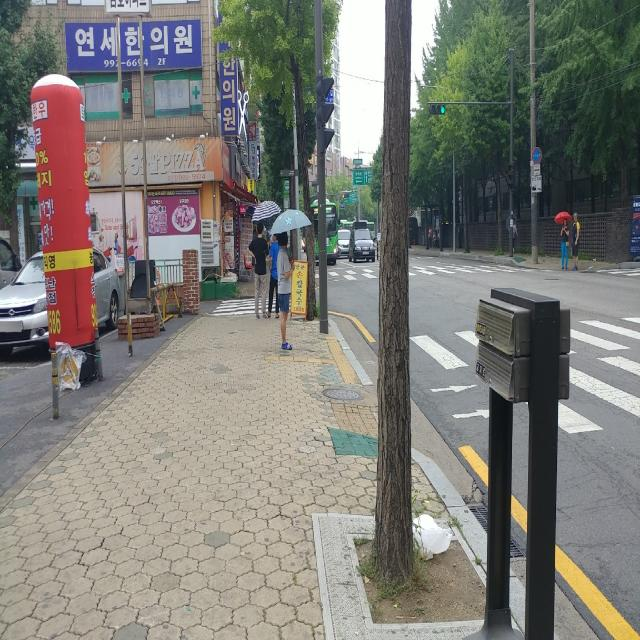횡단보도: (410, 316, 640, 429), (210, 296, 308, 318), (328, 268, 518, 274)
